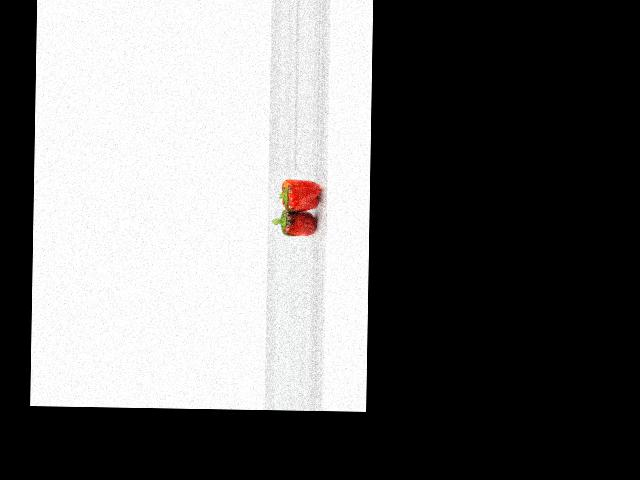bell_pepper: (275, 173, 322, 211)
